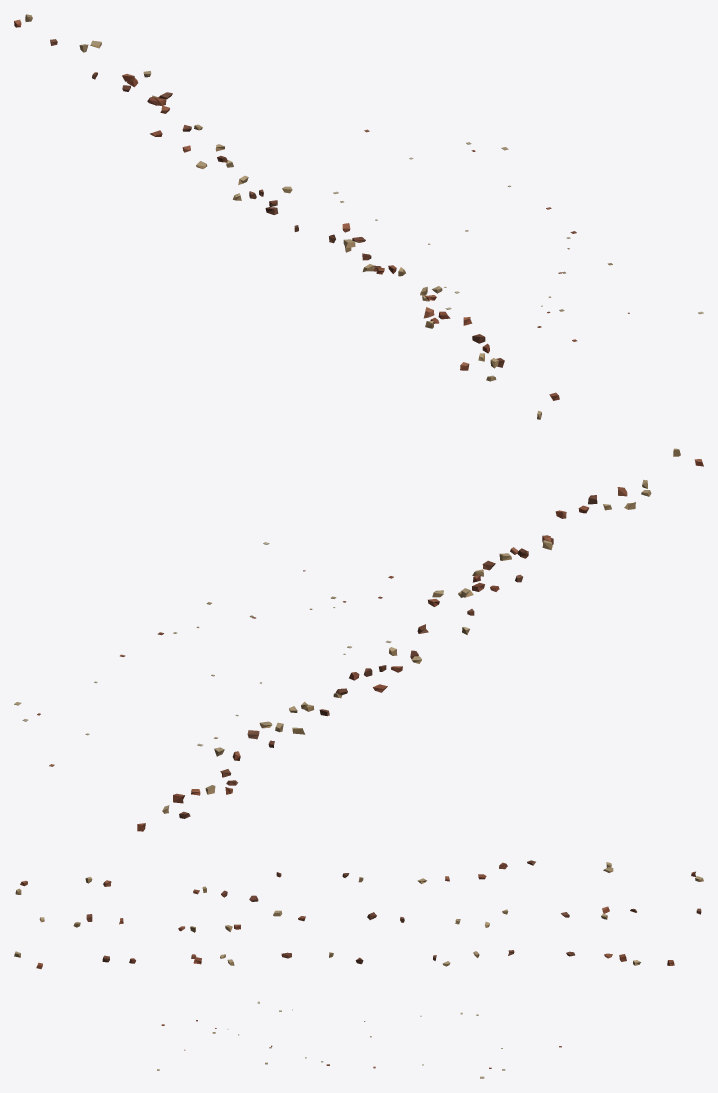
Rendered from mesa_rim_ledge_detail2.glb.
The picture shows the model from 3 angles, top to bottom: view 1: azimuth 30°, elevation 25°; view 2: azimuth 150°, elevation 25°; view 3: azimuth 270°, elevation 25°; orthographic projection. The views are drawn at different scales.
Visible parts, largest first — view 1: mesa_rim_ledge_detail2; view 2: mesa_rim_ledge_detail2; view 3: mesa_rim_ledge_detail2.
Part boxes in pixels (x1,y1,x2,y2): mesa_rim_ledge_detail2: (14, 14, 703, 419); mesa_rim_ledge_detail2: (14, 448, 703, 831); mesa_rim_ledge_detail2: (14, 860, 703, 1078).
Bounding box in the file's own units: 26.42 × 8.86 × 59.68.
